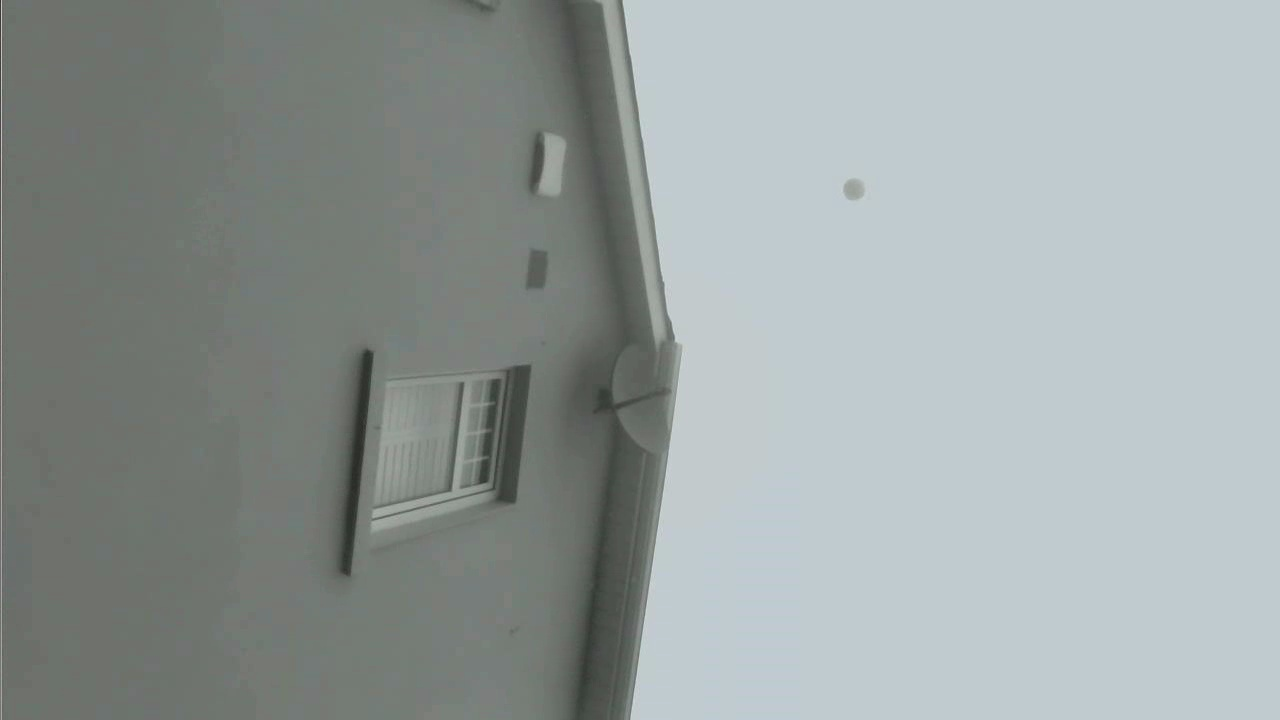Football-Spotter: (843, 178, 864, 200)
